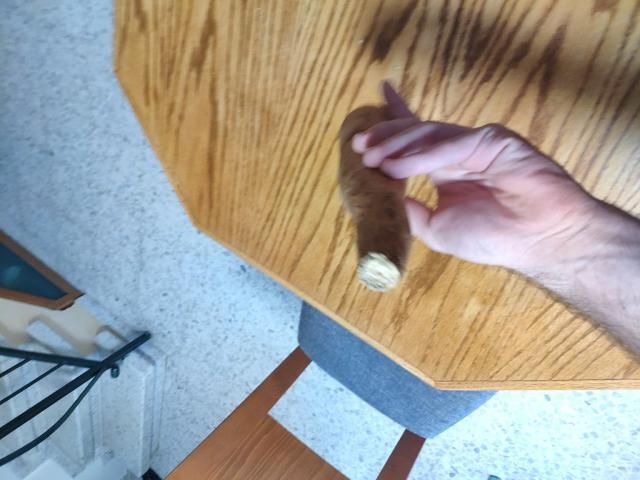sweet_potato: (328, 127, 429, 283)
